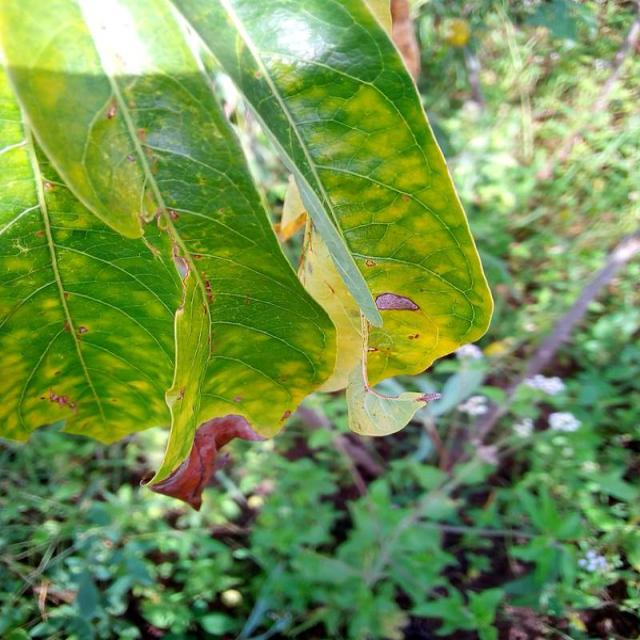cassava leaf: (2, 0, 494, 505)
